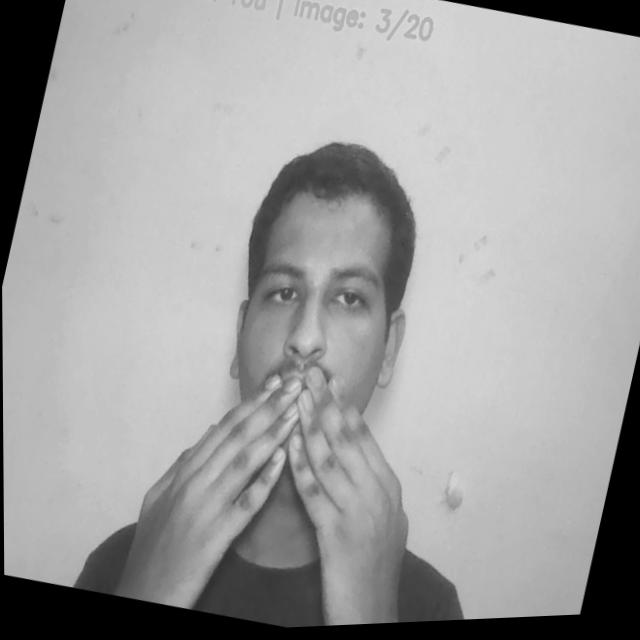Thank You: (122, 335, 431, 636)
